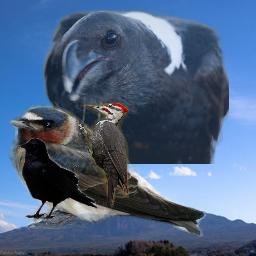Crow: (43, 9, 229, 164), (17, 137, 100, 220)
Swallow: (5, 104, 207, 237)
Woodpecker: (76, 103, 129, 208)
